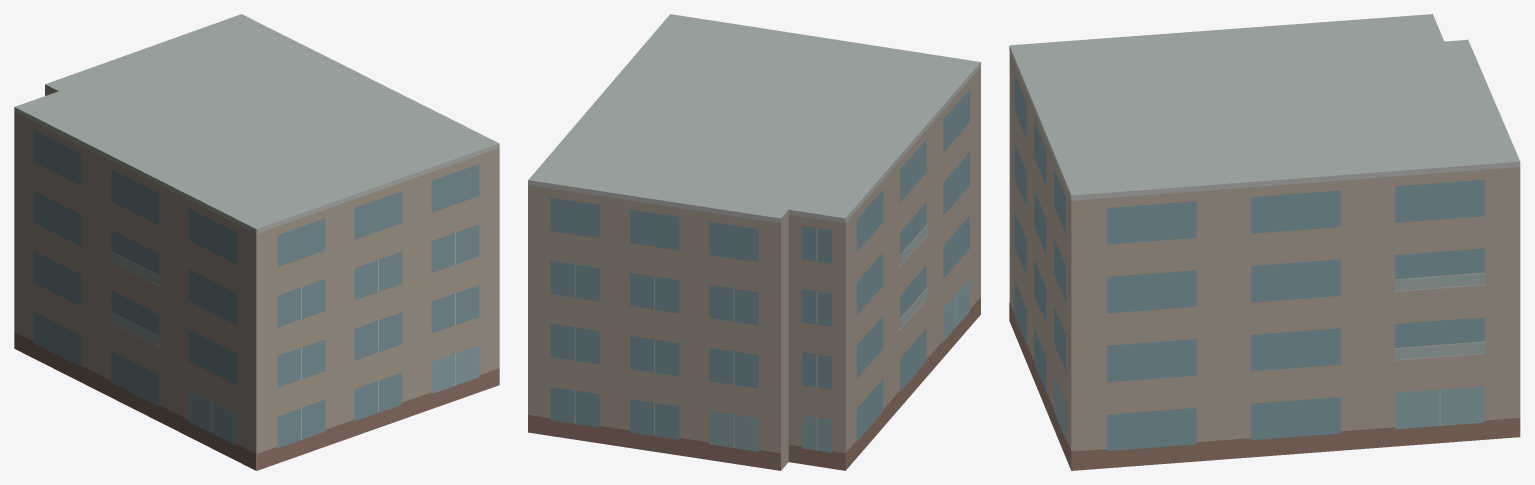
The model's file is survey-upis-32827570.glb.
The picture shows the model from 3 angles, left to right: view 1: azimuth 30°, elevation 25°; view 2: azimuth 150°, elevation 25°; view 3: azimuth 270°, elevation 25°; orthographic projection. The views are drawn at different scales.
Parts seen in each view (by area): view 1: survey-upis-32827570.tmp; view 2: survey-upis-32827570.tmp; view 3: survey-upis-32827570.tmp.
Boxes of the visible parts, <box> form: survey-upis-32827570.tmp: <box>14,14,499,470</box>; survey-upis-32827570.tmp: <box>528,14,980,470</box>; survey-upis-32827570.tmp: <box>1009,14,1520,470</box>.
Size of the model in its own units: 17.89 by 12.65 by 21.28.
